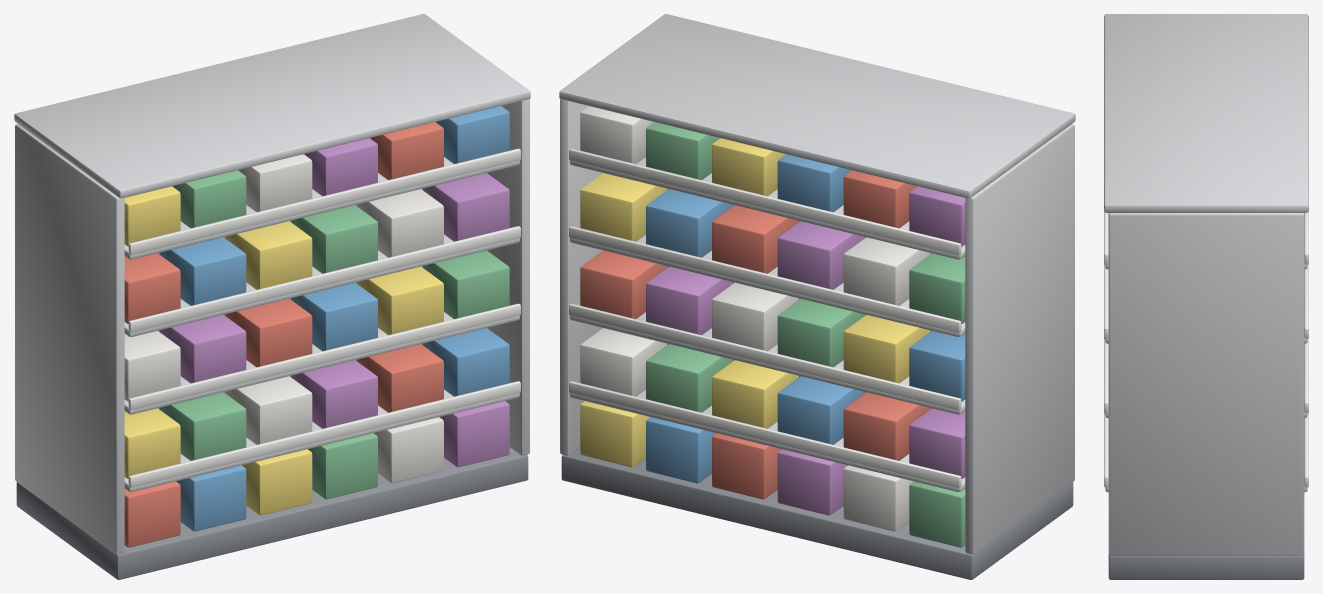
The model's file is th11_ladenregal.glb.
3 views of the same model, side by side, from view 1: azimuth 30°, elevation 25°; view 2: azimuth 150°, elevation 25°; view 3: azimuth 270°, elevation 25° (orthographic). The views are drawn at different scales.
Parts seen in each view (by area): view 1: Cube.004, Cube.002, Cube, Cube.003, Cube.010, Cube.006, Cube.014, Cube.018, Cube.035, Cube.059, Cube.047, Cube.034 (+30 smaller); view 2: Cube.004, Cube.002, Cube, Cube.003, Cube.012, Cube.008, Cube.016, Cube.020, Cube.041, Cube.065, Cube.053, Cube.040 (+30 smaller); view 3: Cube.003, Cube.004, Cube, Cube.010, Cube.012, Cube.006, Cube.008, Cube.014, Cube.016.
Part boxes in pixels (box(x1,y1,x2,y2)): Cube.004: box(14, 14, 530, 198); Cube.002: box(15, 124, 124, 554); Cube: box(16, 447, 528, 579); Cube.003: box(487, 99, 529, 455); Cube.010: box(128, 303, 520, 410); Cube.006: box(128, 381, 520, 487); Cube.014: box(128, 226, 520, 332); Cube.018: box(128, 148, 520, 255); Cube.035: box(225, 376, 312, 444); Cube.059: box(225, 221, 312, 289); Cube.047: box(225, 298, 312, 367); Cube.034: box(159, 392, 246, 460); Cube.004: box(559, 14, 1075, 198); Cube.002: box(965, 124, 1074, 554); Cube: box(561, 447, 1073, 579); Cube.003: box(560, 99, 602, 455); Cube.012: box(569, 303, 961, 410); Cube.008: box(569, 381, 961, 487); Cube.016: box(569, 226, 961, 332); Cube.020: box(569, 148, 961, 255); Cube.041: box(777, 376, 864, 444); Cube.065: box(777, 221, 864, 289); Cube.053: box(777, 298, 864, 367); Cube.040: box(843, 392, 930, 460); Cube.003: box(1108, 213, 1304, 555); Cube.004: box(1104, 14, 1308, 212); Cube: box(1108, 554, 1304, 579); Cube.010: box(1104, 338, 1108, 413); Cube.012: box(1304, 338, 1308, 413); Cube.006: box(1104, 412, 1108, 487); Cube.008: box(1304, 412, 1308, 487); Cube.014: box(1104, 264, 1108, 338); Cube.016: box(1304, 264, 1308, 338).
Bounding box in the file's own units: 2.02 × 1.82 × 0.9.
